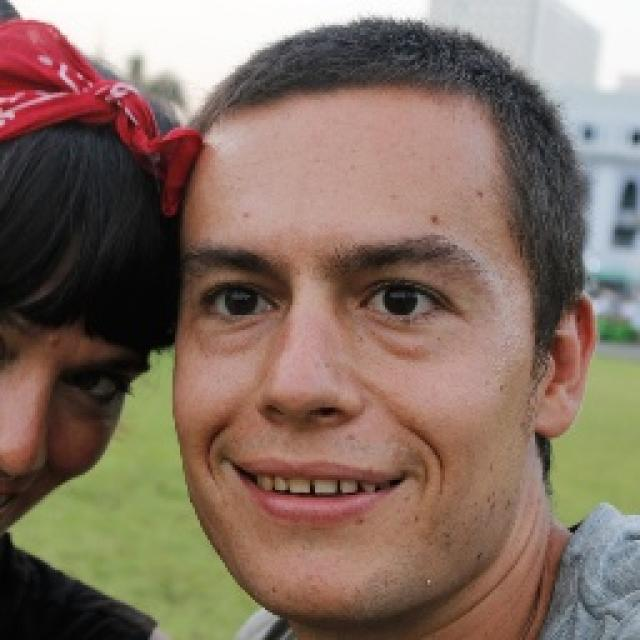earlobe: (532, 289, 596, 440)
